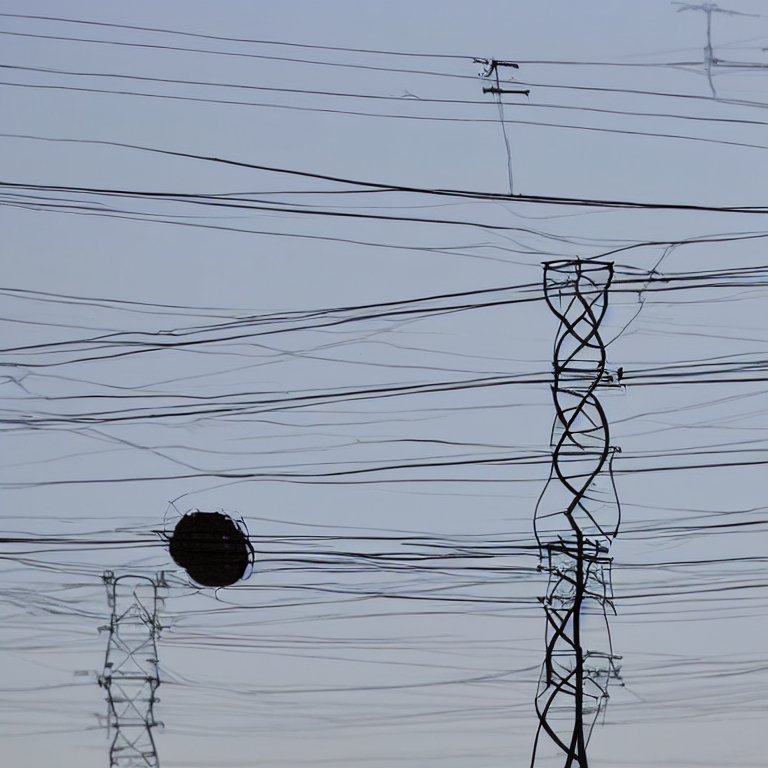nest: (168, 511, 248, 588)
